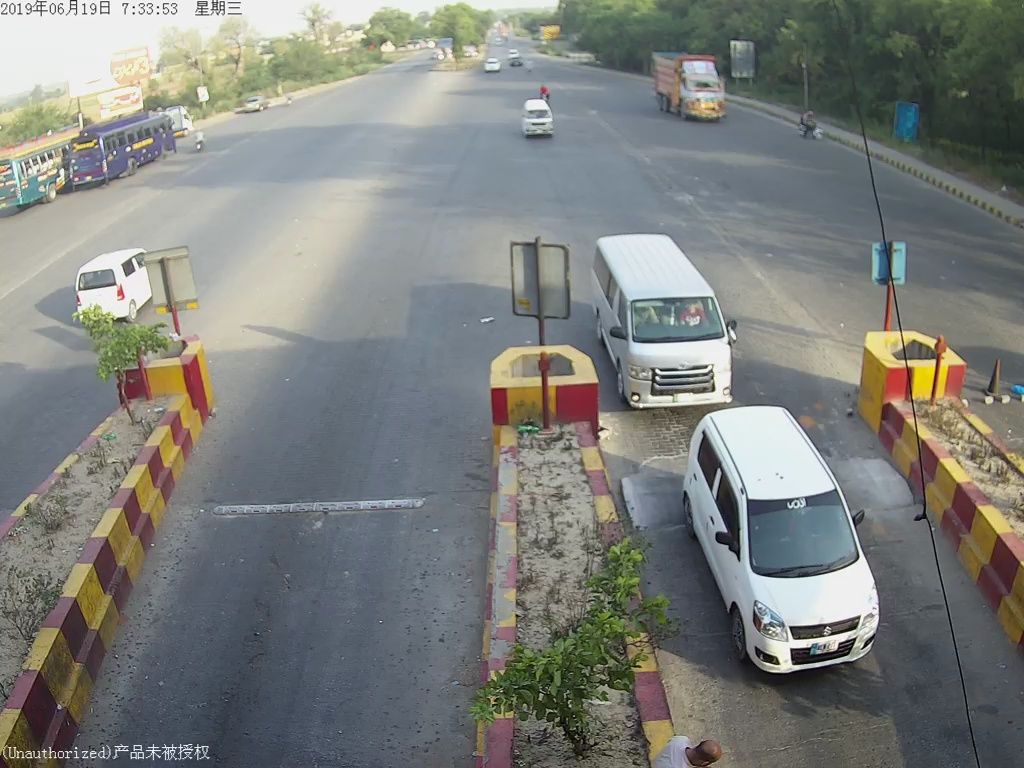Cat-1: (685, 407, 898, 673)
Cat-2: (593, 237, 749, 398)
